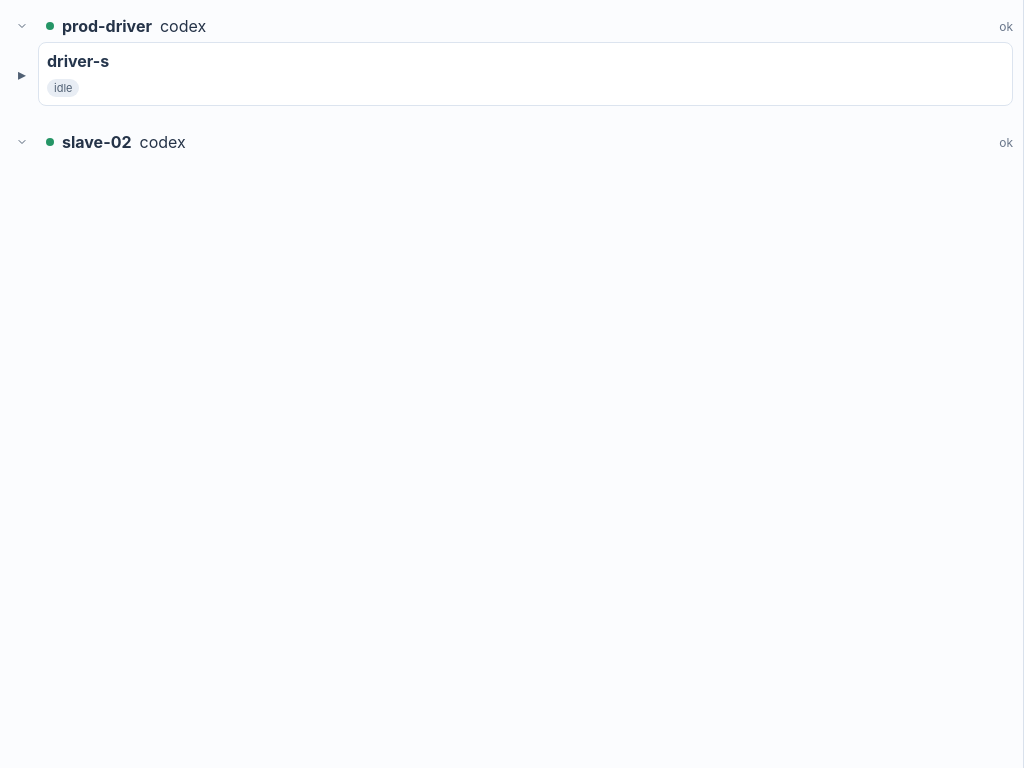
renders descendants of a remote agent_task (slave subagent under driver→remote→subagent chain)
Expected: the text "remote task · on slave-02" is not shown
Expected: the text "subagent · Lovelace" is not shown
Expand the driver root → remote agent_task surfaces.
Click the button named "展开 subagent sessions: driver-s" at (22, 74), box [10,42,34,106]
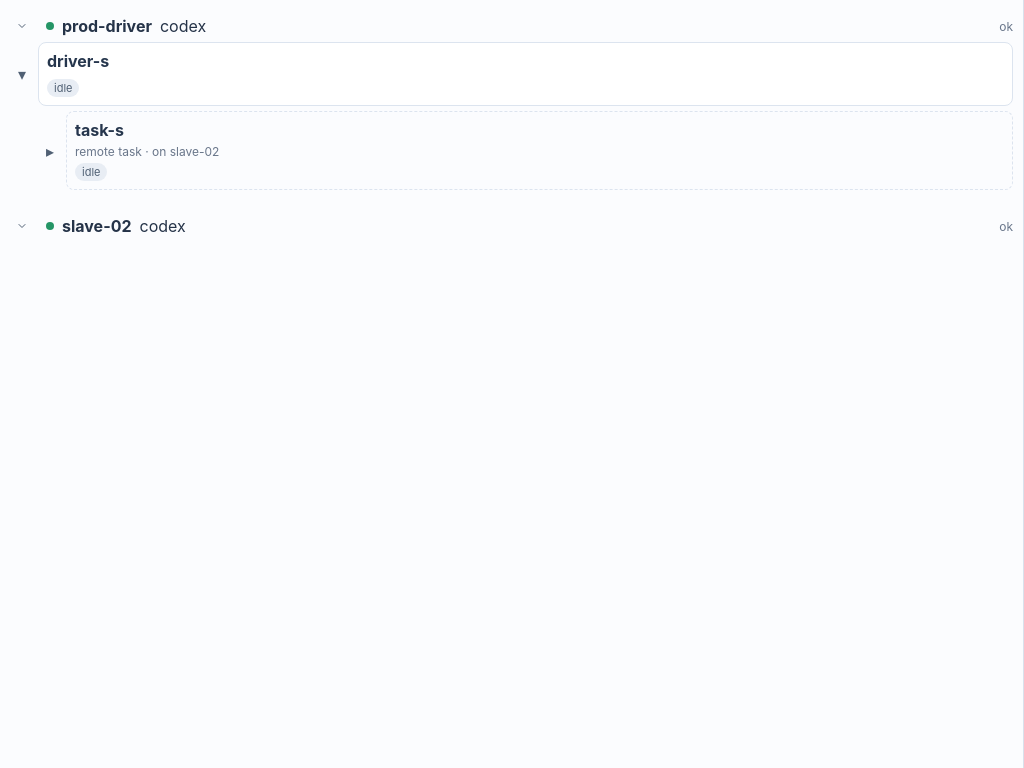
Expected: the text "subagent · Lovelace" is not shown
Result: the text "remote task · on slave-02" is shown at [75,144,219,159]
Expand the remote agent_task → its slave subagent finally shows.
Click the button named "展开 subagent sessions: task-s" at (50, 150), box [38,111,62,190]
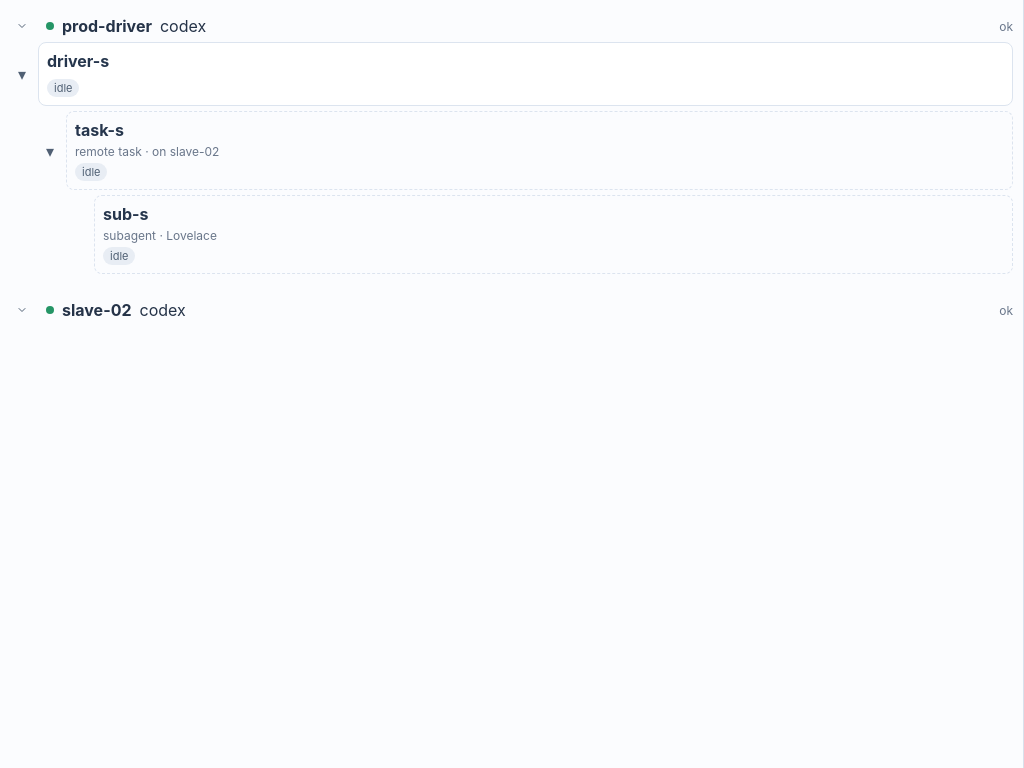
Result: the text "subagent · Lovelace" is shown at [103,228,217,243]
